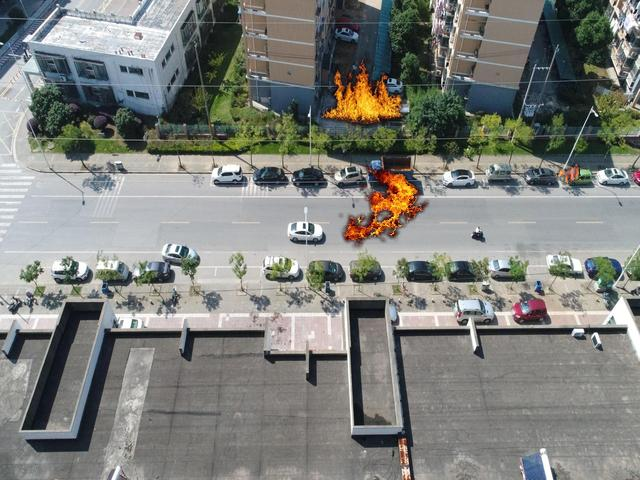fire: (338, 163, 428, 251), (318, 49, 405, 129), (558, 163, 578, 184)
